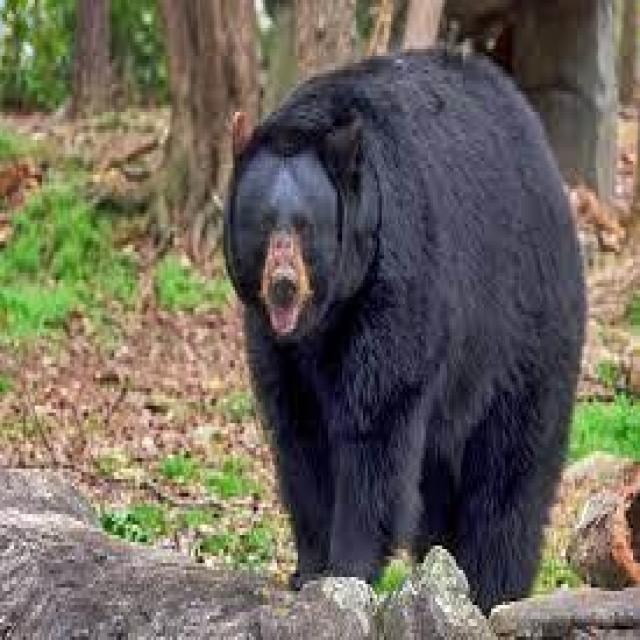Bear: (223, 49, 589, 619)
